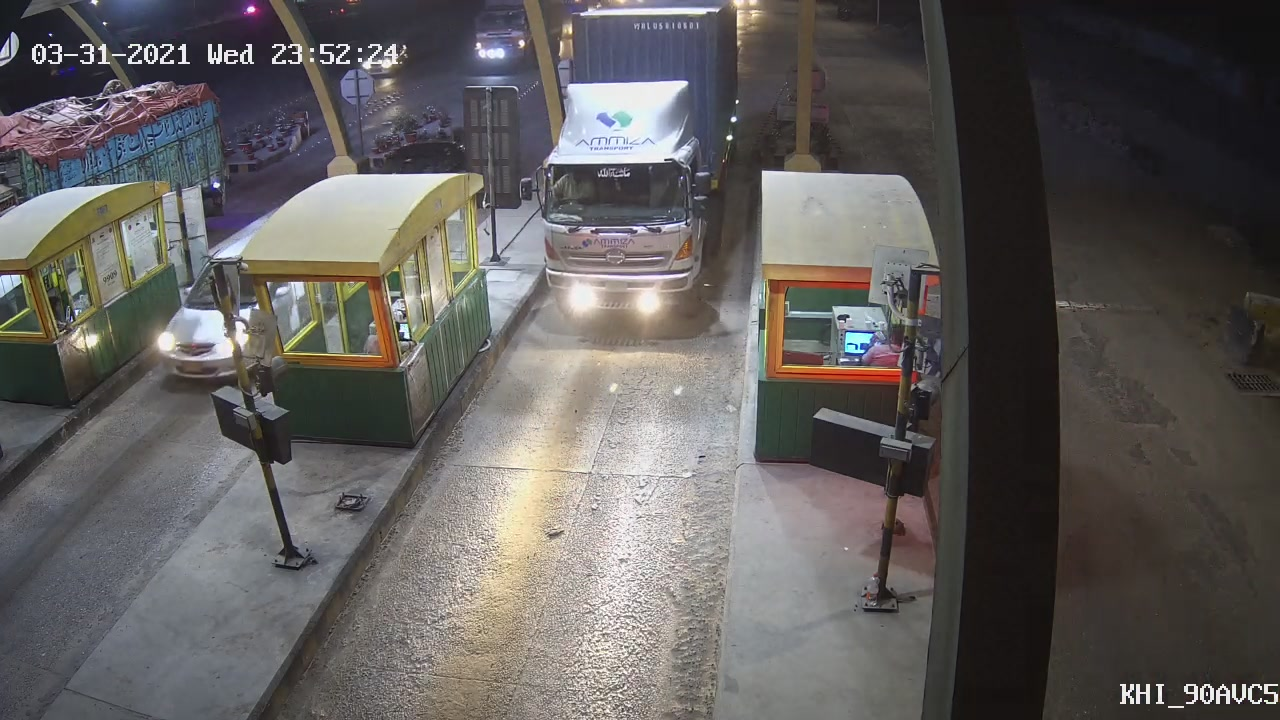F6: (514, 1, 744, 323)
